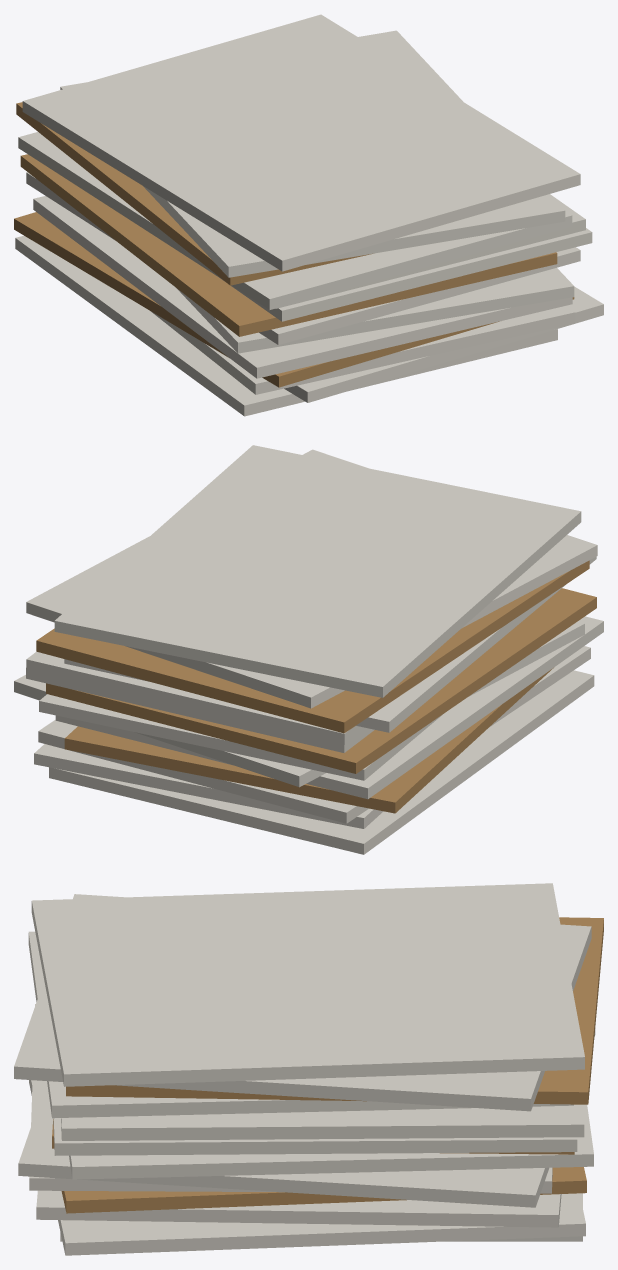
The model's file is printouts-hundreds-pages-same.glb.
The picture shows the model from 3 angles, top to bottom: view 1: azimuth 30°, elevation 25°; view 2: azimuth 150°, elevation 25°; view 3: azimuth 270°, elevation 25°; orthographic projection. The views are drawn at different scales.
Bounding box in the file's own units: 0.9215 × 0.363 × 1.07.
